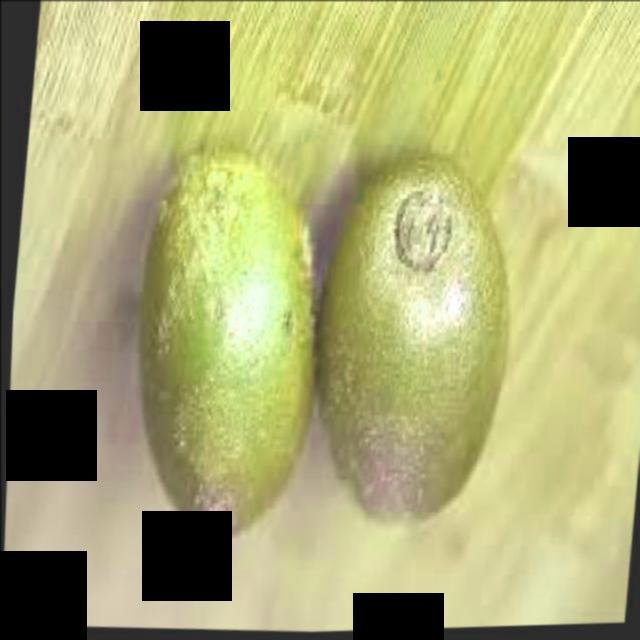kiwi: (120, 144, 329, 550), (303, 149, 523, 533)
